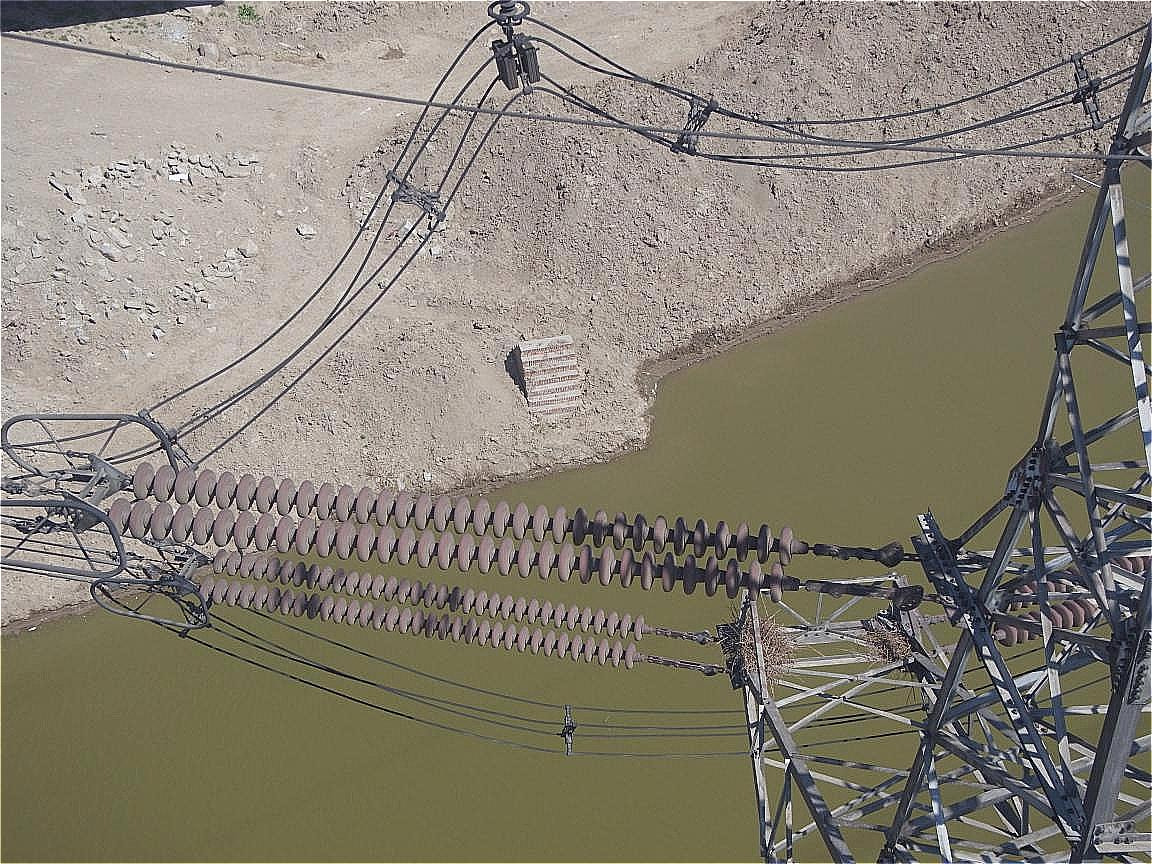insultor1: (109, 460, 795, 603), (198, 550, 648, 674)
